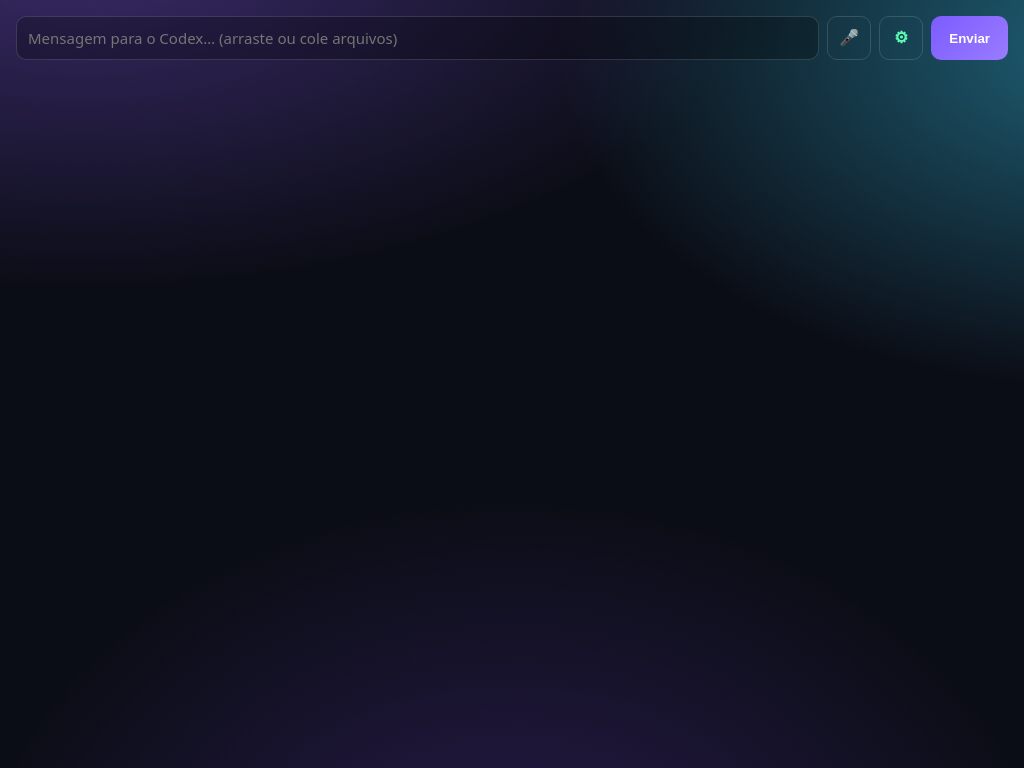
Test case: @! como referência local › mostra erro com retry e diferencia pasta vazia
Type "@!" into the text box at (418, 38), box 16,16 -> 819,60
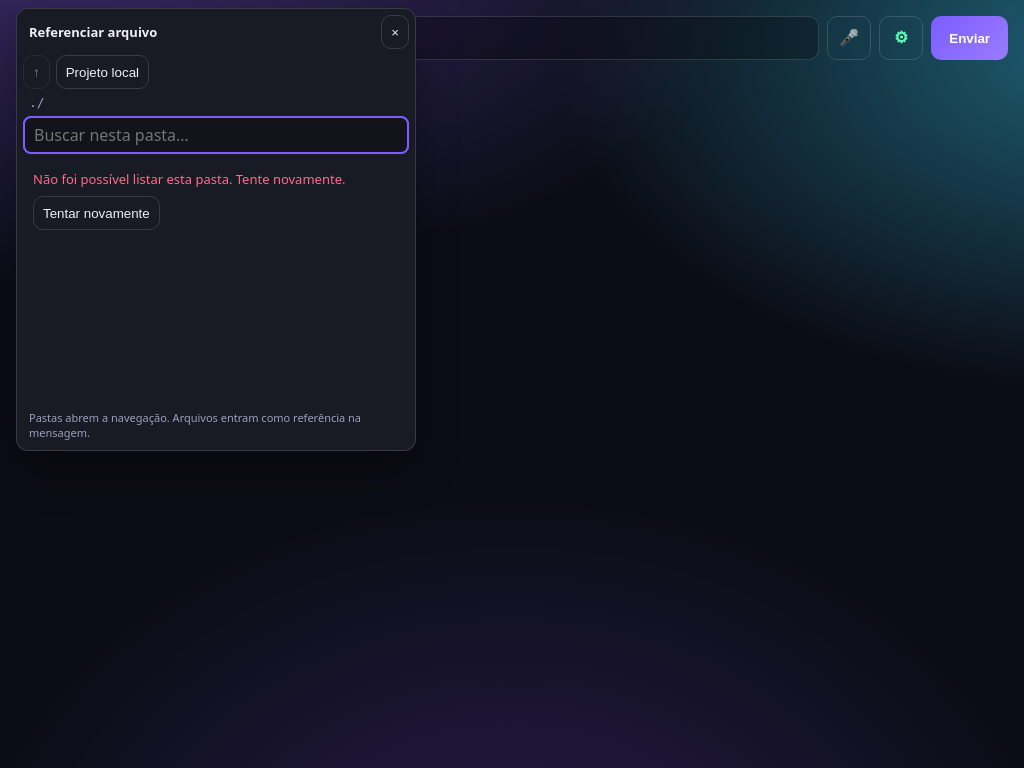
Check: the message "Não foi possível listar esta pasta. Tente novamente. Tentar novamente" is shown, box 33,170 -> 346,230
Click the button "Tentar novamente" at (96, 213), box 33,196 -> 160,230
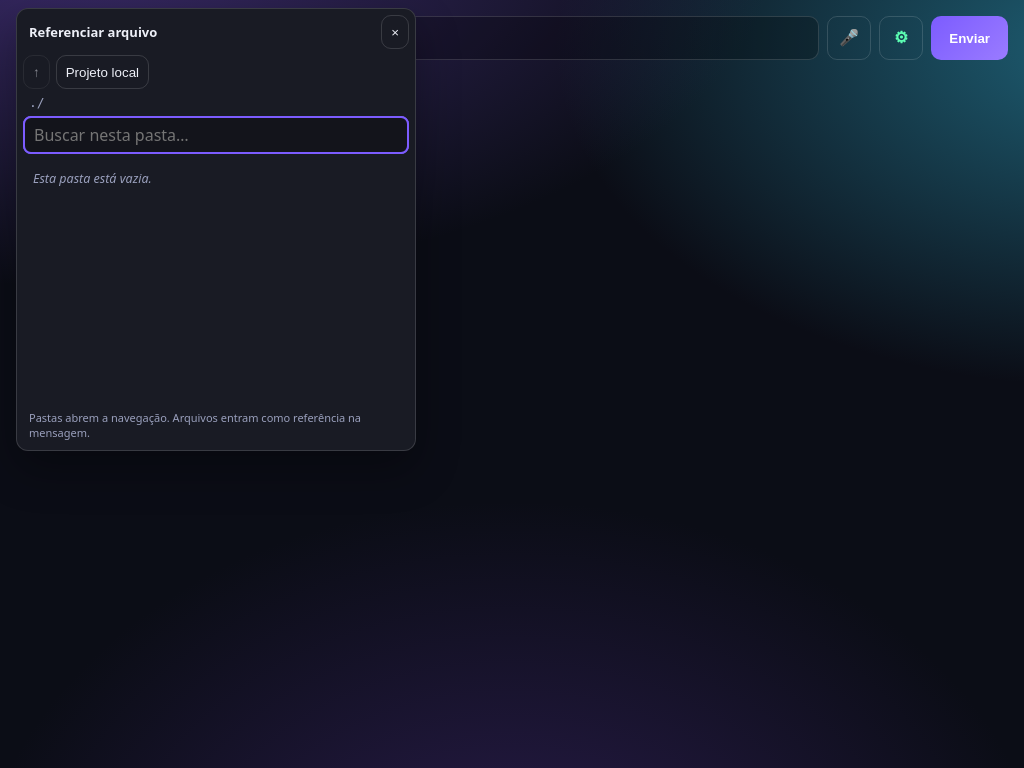
Check: the text "Esta pasta está vazia." is shown, box 33,170 -> 152,187
